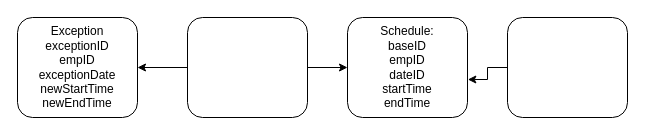
This 645x135 diagram has some shape labels left out. The shapes that lost their labels are listed below. From the top down, each one's box as (x1, y1, x2, y2) in pixels, then its label:
(186, 16, 308, 118): Employee: empID empName
(506, 16, 628, 118): Date dateID date
